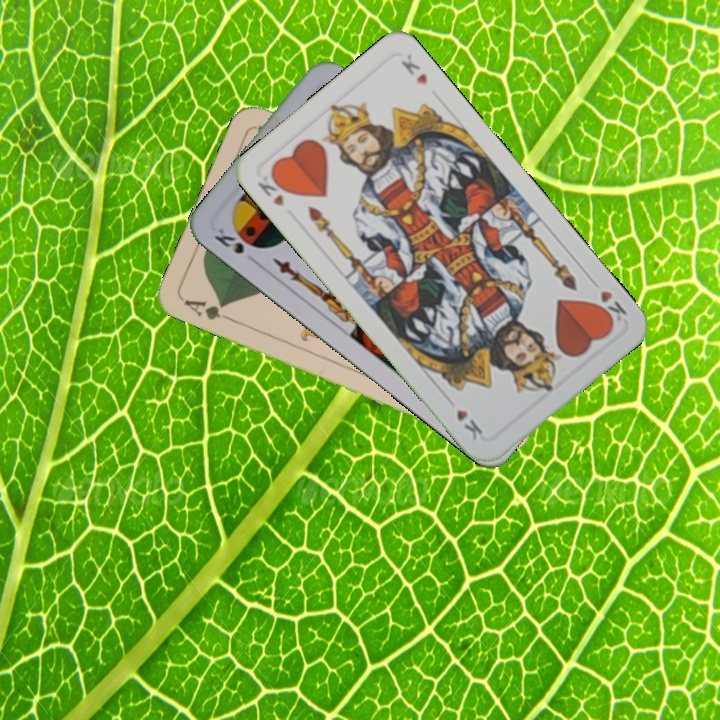GA: (179, 295, 236, 325)
HK: (253, 168, 292, 209), (591, 286, 629, 327)
SK: (210, 224, 247, 257)
